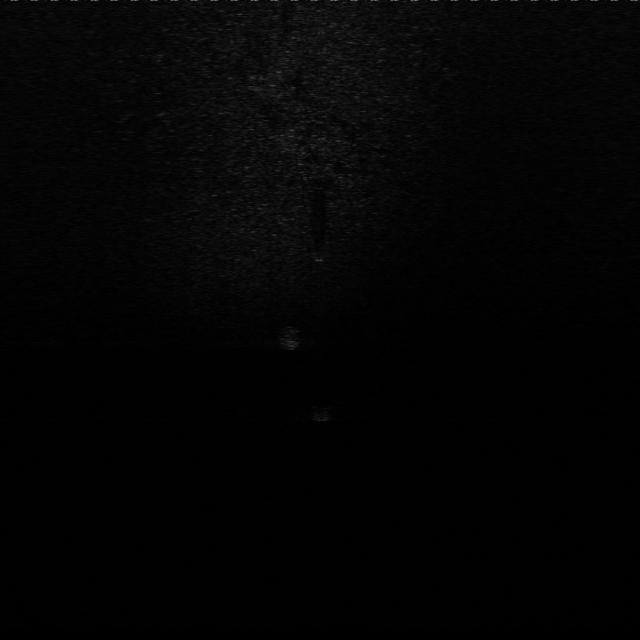ball: (306, 244, 333, 264)
circle cage: (272, 318, 308, 353)
tyre: (299, 383, 337, 424)
